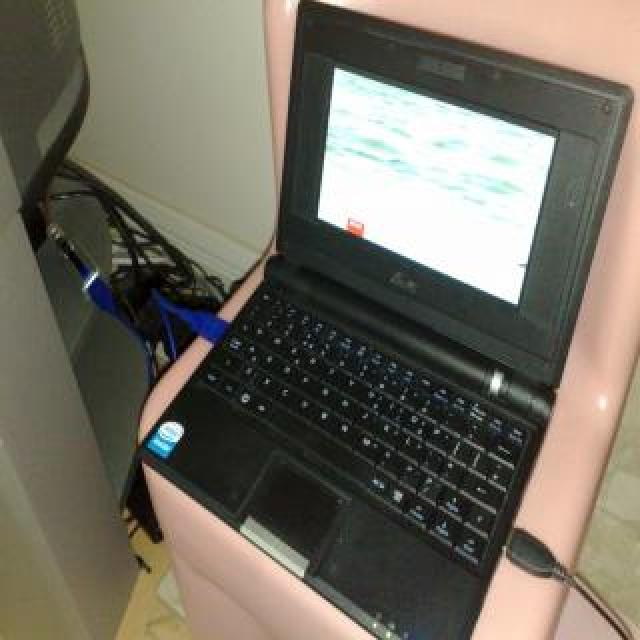laptop_computer: (212, 0, 566, 636)
